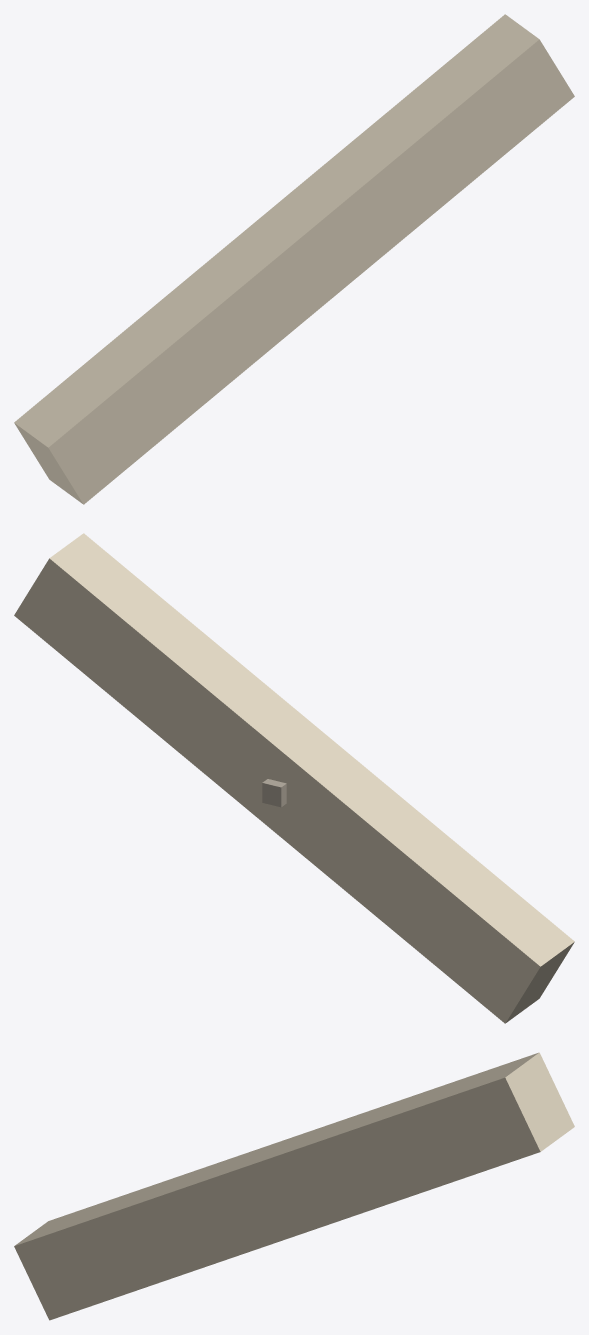
Rendered from historic-palestine-12_21_3539_3155.glb.
3 views of the same model, one above another, from view 1: azimuth 30°, elevation 25°; view 2: azimuth 150°, elevation 25°; view 3: azimuth 330°, elevation 25° (orthographic).
Visible parts, largest first — view 1: Building_; view 2: Building_, Roof access hut; view 3: Building_.
Boxes of the visible parts, box(x1,y1,x2,y2) form: Building_: box(14, 14, 574, 504); Building_: box(14, 533, 574, 1023); Roof access hut: box(262, 779, 286, 807); Building_: box(14, 1052, 574, 1320).
Bounding box in the file's own units: 66.32 × 42.63 × 8.7.
